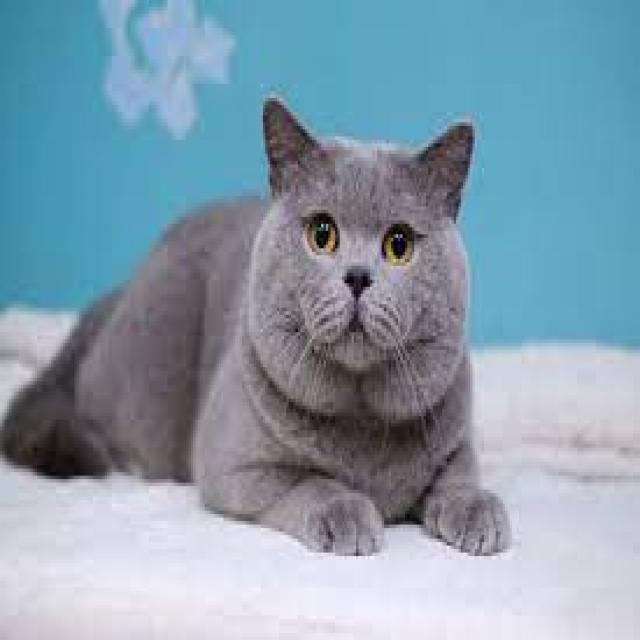cat: (68, 72, 584, 584)
